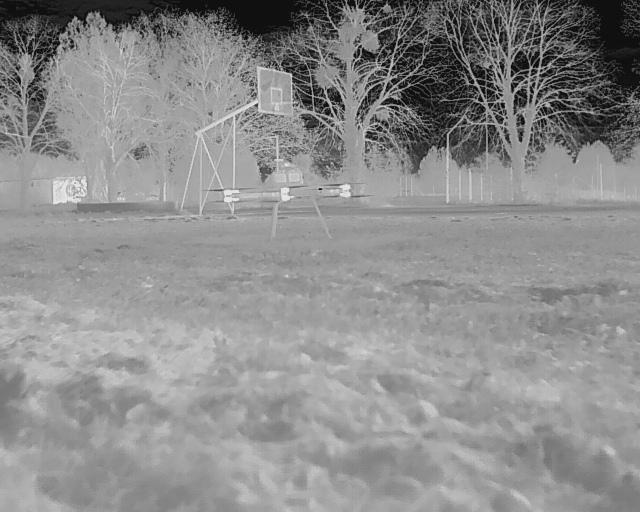drone: (207, 145, 371, 262)
